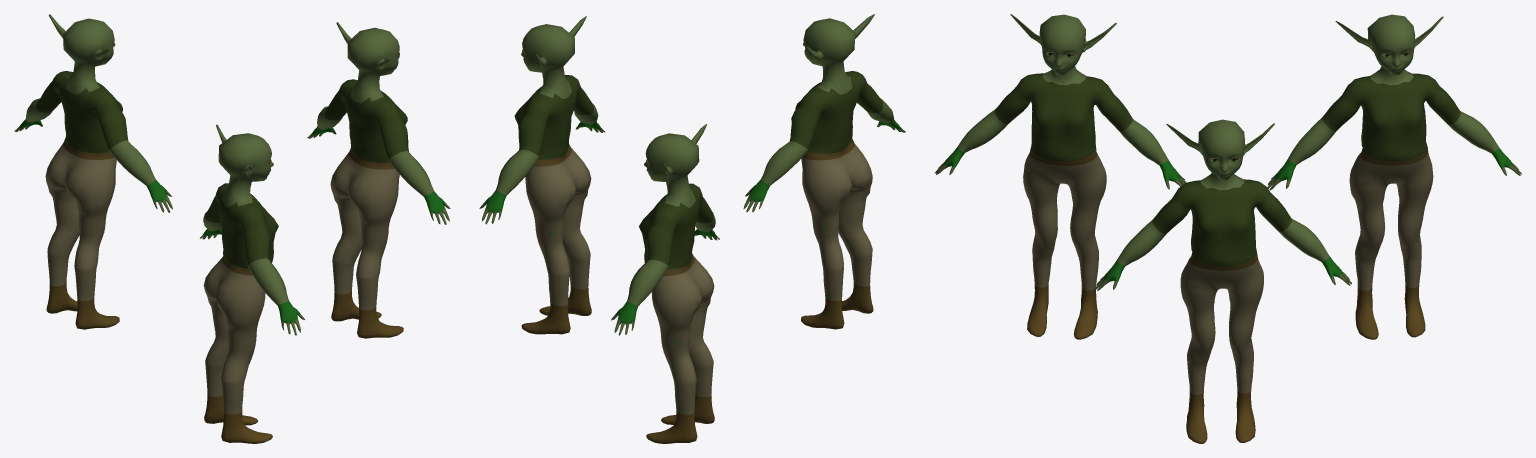
File: baseperson_goblin.glb
3 views of the same model, side by side, from view 1: azimuth 30°, elevation 25°; view 2: azimuth 150°, elevation 25°; view 3: azimuth 270°, elevation 25° (orthographic). The views are drawn at different scales.
Visible parts, largest first — view 1: body_LP_Plane.002, body_LP_Plane.001, body_LP_Plane.003; view 2: body_LP_Plane.003, body_LP_Plane.001, body_LP_Plane.002; view 3: body_LP_Plane.002, body_LP_Plane.001, body_LP_Plane.003.
Part boxes in pixels (x1,y1,x2,y2): body_LP_Plane.002: (14, 14, 172, 329); body_LP_Plane.001: (307, 22, 450, 338); body_LP_Plane.003: (199, 124, 304, 443); body_LP_Plane.003: (743, 14, 905, 329); body_LP_Plane.001: (479, 16, 605, 334); body_LP_Plane.002: (611, 124, 719, 443); body_LP_Plane.002: (1267, 14, 1521, 339); body_LP_Plane.001: (1094, 119, 1351, 443); body_LP_Plane.003: (934, 14, 1186, 339).
Bounding box in the file's own units: 5 × 5.37 × 9.14.
Materials: 20 (3 with a texture image).
